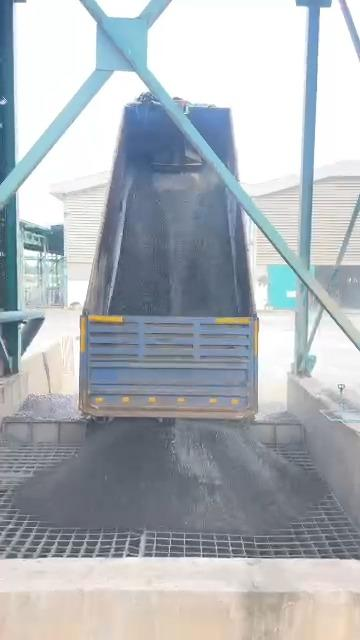gravel: (15, 420, 324, 534), (114, 167, 239, 316), (16, 394, 80, 419)
